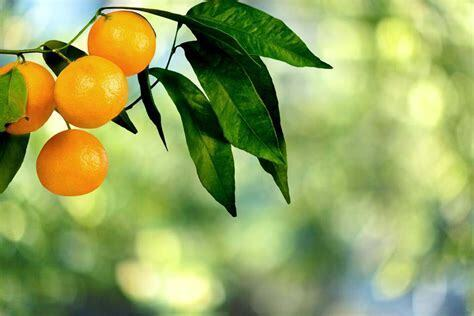orange: (54, 56, 128, 129), (88, 9, 158, 80), (36, 131, 109, 197), (1, 60, 55, 134)
